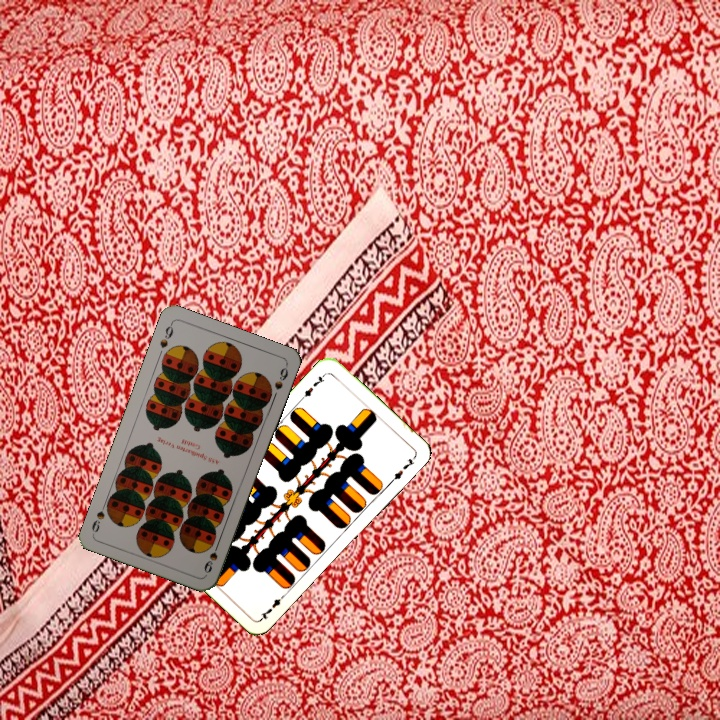E7: (297, 369, 329, 403), (257, 589, 289, 622)
S9: (200, 537, 222, 576), (156, 319, 176, 351)
